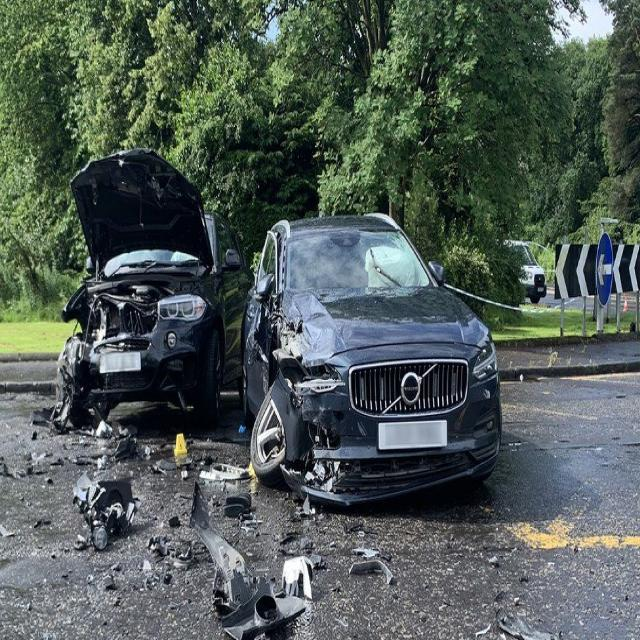crush: (55, 150, 213, 435), (245, 223, 345, 500)
